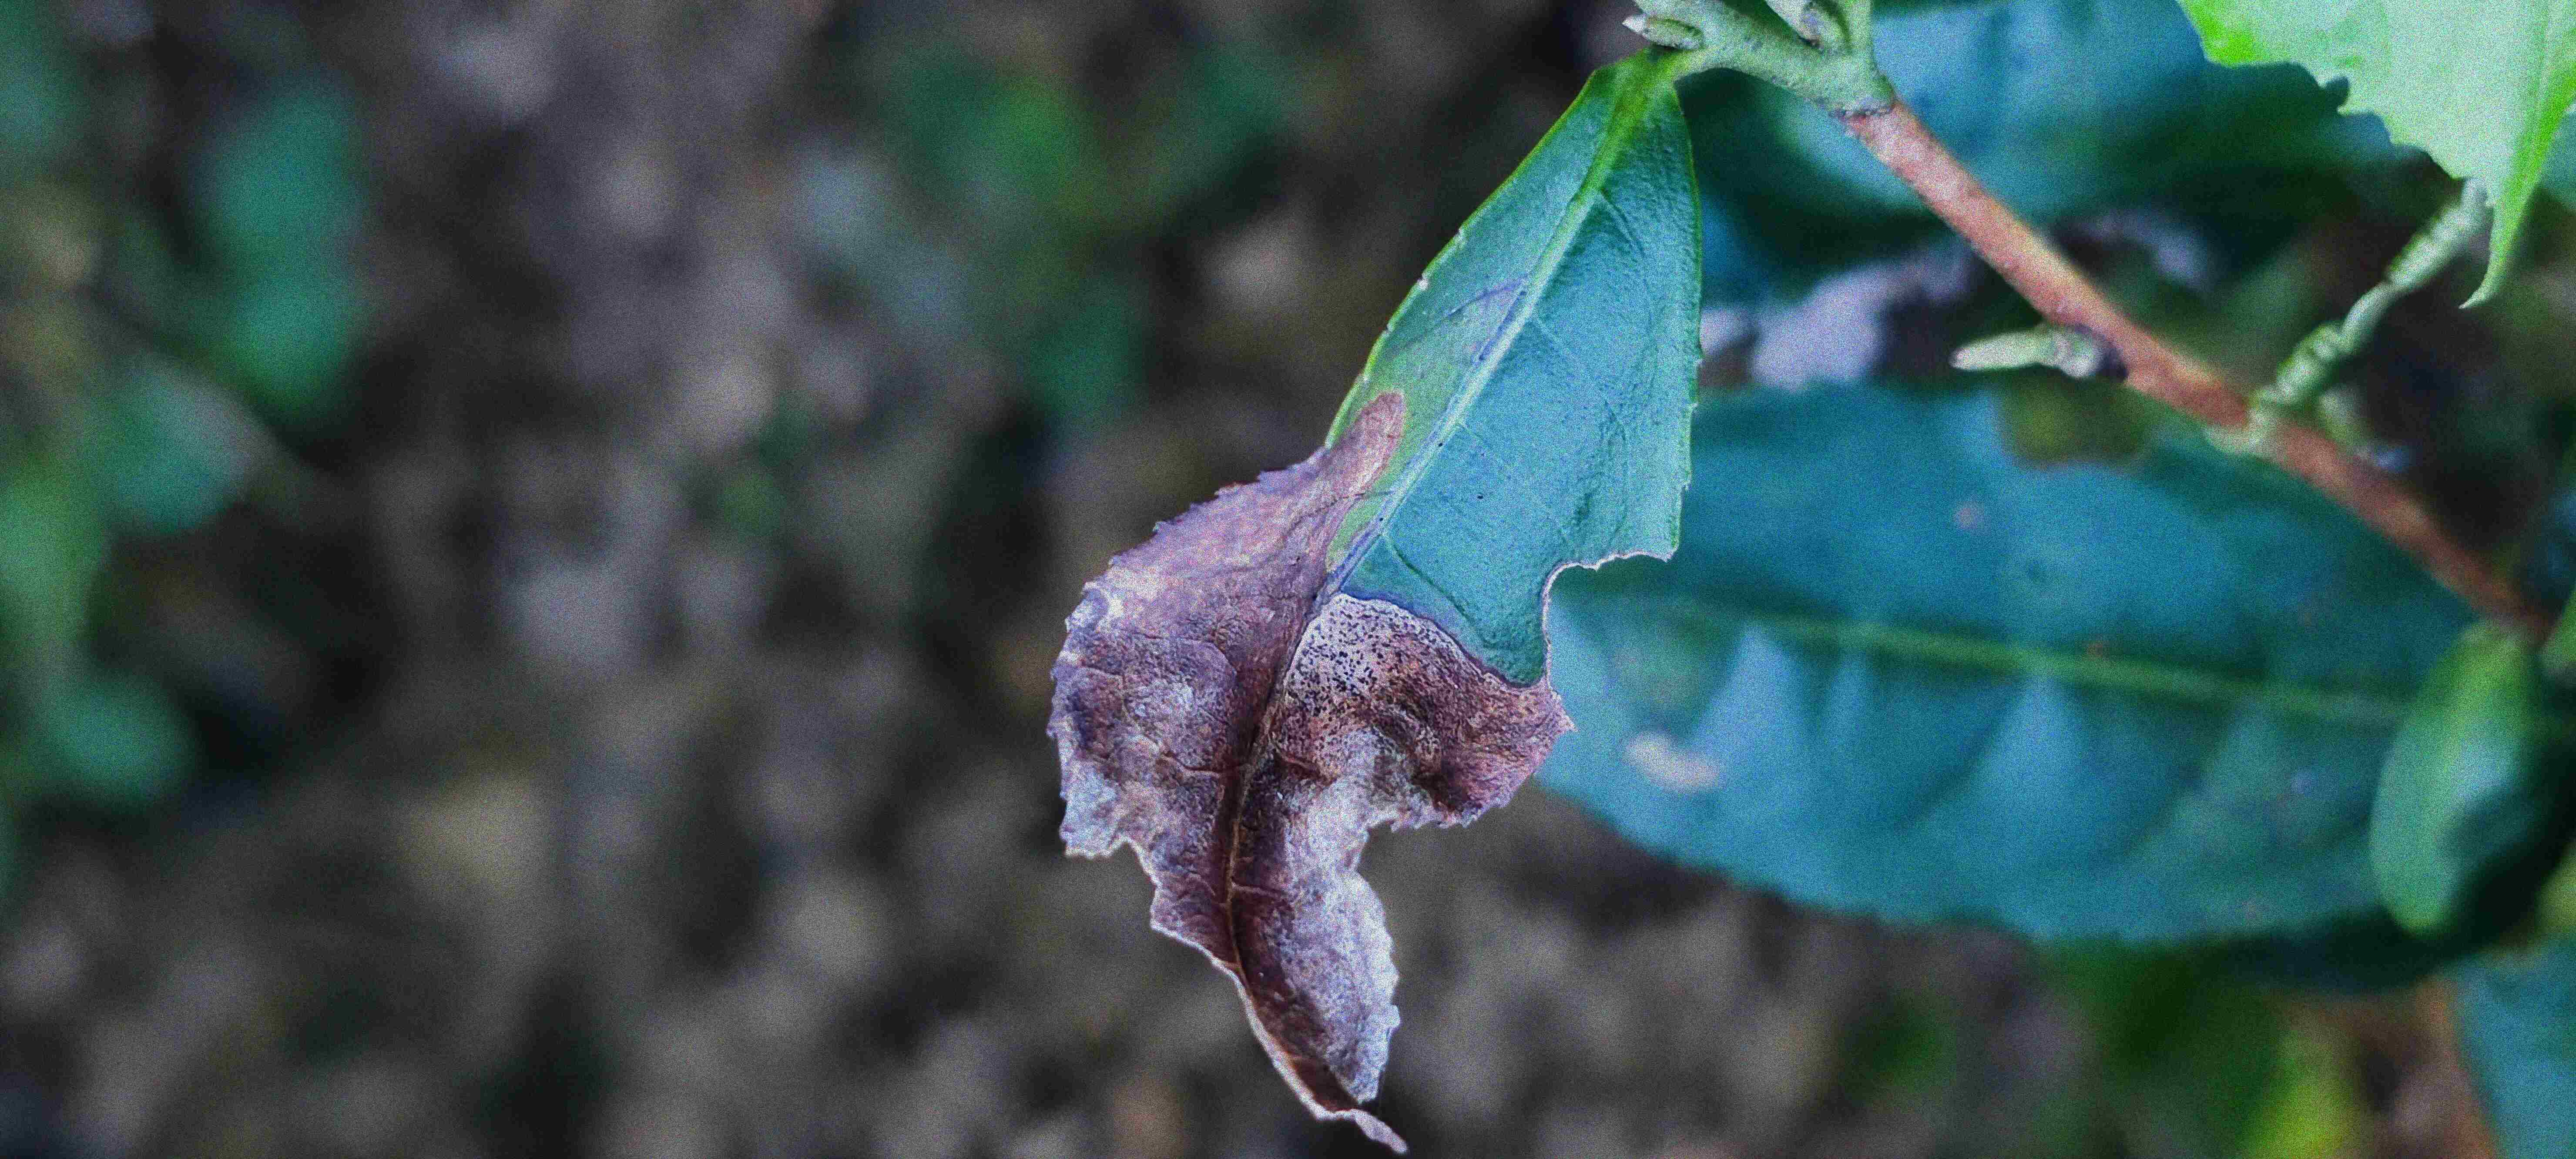tanju_high: (1046, 57, 1707, 1148)
